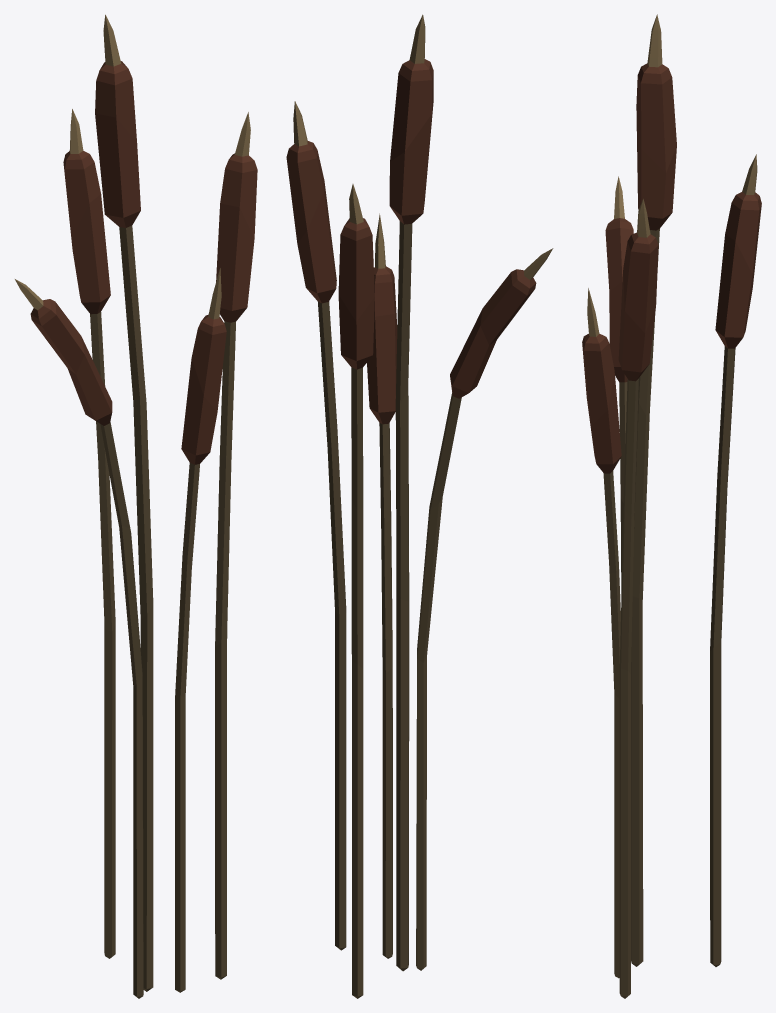
Rendered from swp_Env_Reeds_01.glb.
The picture shows the model from 3 angles, left to right: view 1: azimuth 30°, elevation 25°; view 2: azimuth 150°, elevation 25°; view 3: azimuth 270°, elevation 25°; orthographic projection. The views are drawn at different scales.
Parts seen in each view (by area): view 1: SM_Env_Reeds_01_LOD0; view 2: SM_Env_Reeds_01_LOD0; view 3: SM_Env_Reeds_01_LOD0.
Boxes of the visible parts, x1=… form: SM_Env_Reeds_01_LOD0: x1=15, y1=14, x2=257, y2=998; SM_Env_Reeds_01_LOD0: x1=286, y1=14, x2=553, y2=998; SM_Env_Reeds_01_LOD0: x1=582, y1=14, x2=761, y2=998.
Size of the model in its own units: 0.9163 by 3.4 by 0.5898.
Materials: 1 (1 with a texture image).
